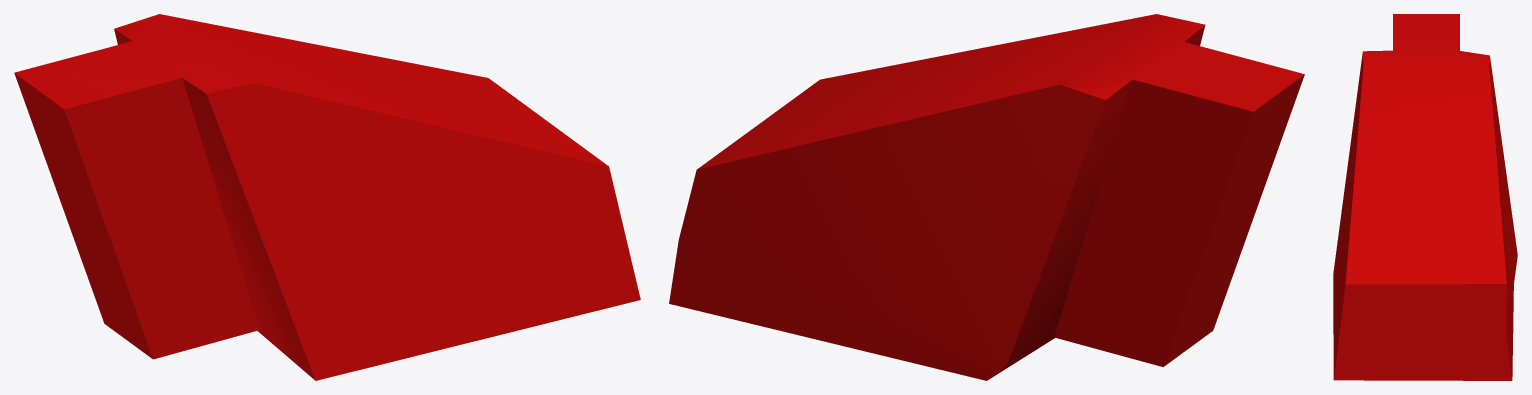
The model's file is gripper_left_5_collision.dae.
The picture shows the model from 3 angles, left to right: view 1: azimuth 30°, elevation 25°; view 2: azimuth 150°, elevation 25°; view 3: azimuth 270°, elevation 25°; orthographic projection. The views are drawn at different scales.
Parts seen in each view (by area): view 1: gripper_left_5_collision; view 2: gripper_left_5_collision; view 3: gripper_left_5_collision.
Boxes of the visible parts, x1,y1,x2,y2 form: gripper_left_5_collision: (14, 14, 640, 380); gripper_left_5_collision: (669, 14, 1304, 380); gripper_left_5_collision: (1333, 14, 1517, 380).
Size of the model in its own units: 0.049 by 0.0257 by 0.022.
